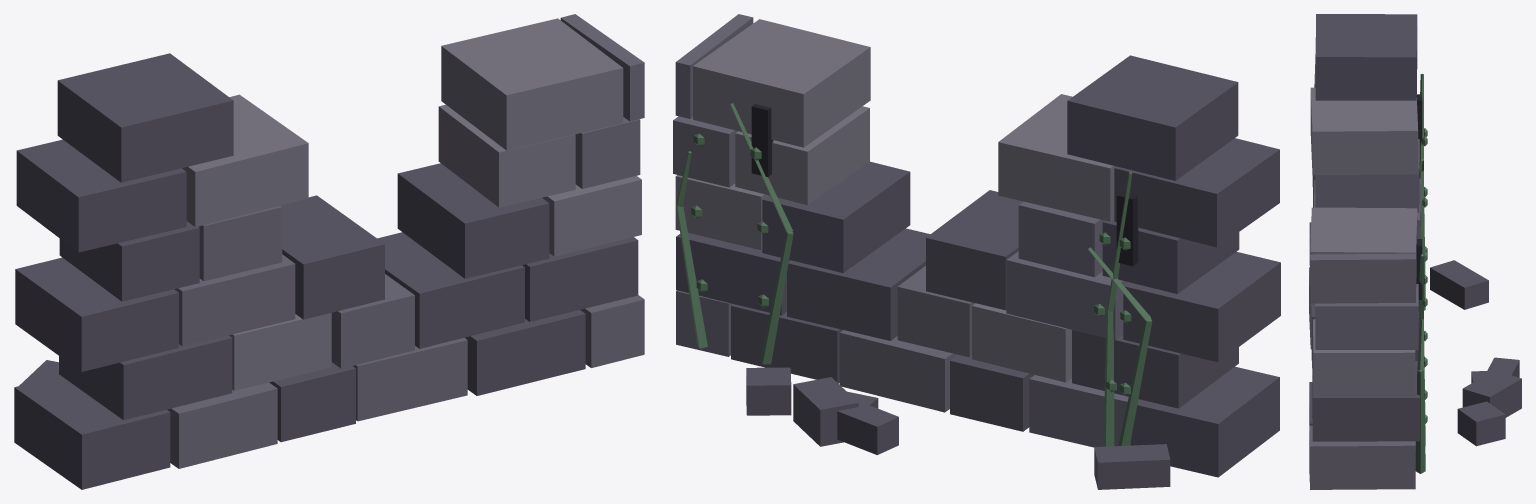
Rendered from castle_wall_1.glb.
3 views of the same model, side by side, from view 1: azimuth 30°, elevation 25°; view 2: azimuth 150°, elevation 25°; view 3: azimuth 270°, elevation 25° (orthographic). The views are drawn at different scales.
Parts seen in each view (by area): view 1: castle_wall_1; view 2: castle_wall_1; view 3: castle_wall_1.
Part boxes in pixels (<box>): castle_wall_1: <box>14,14,644,489</box>; castle_wall_1: <box>673,14,1280,489</box>; castle_wall_1: <box>1309,14,1521,489</box>.
Size of the model in its own units: 5.97 by 3.59 by 2.49.
